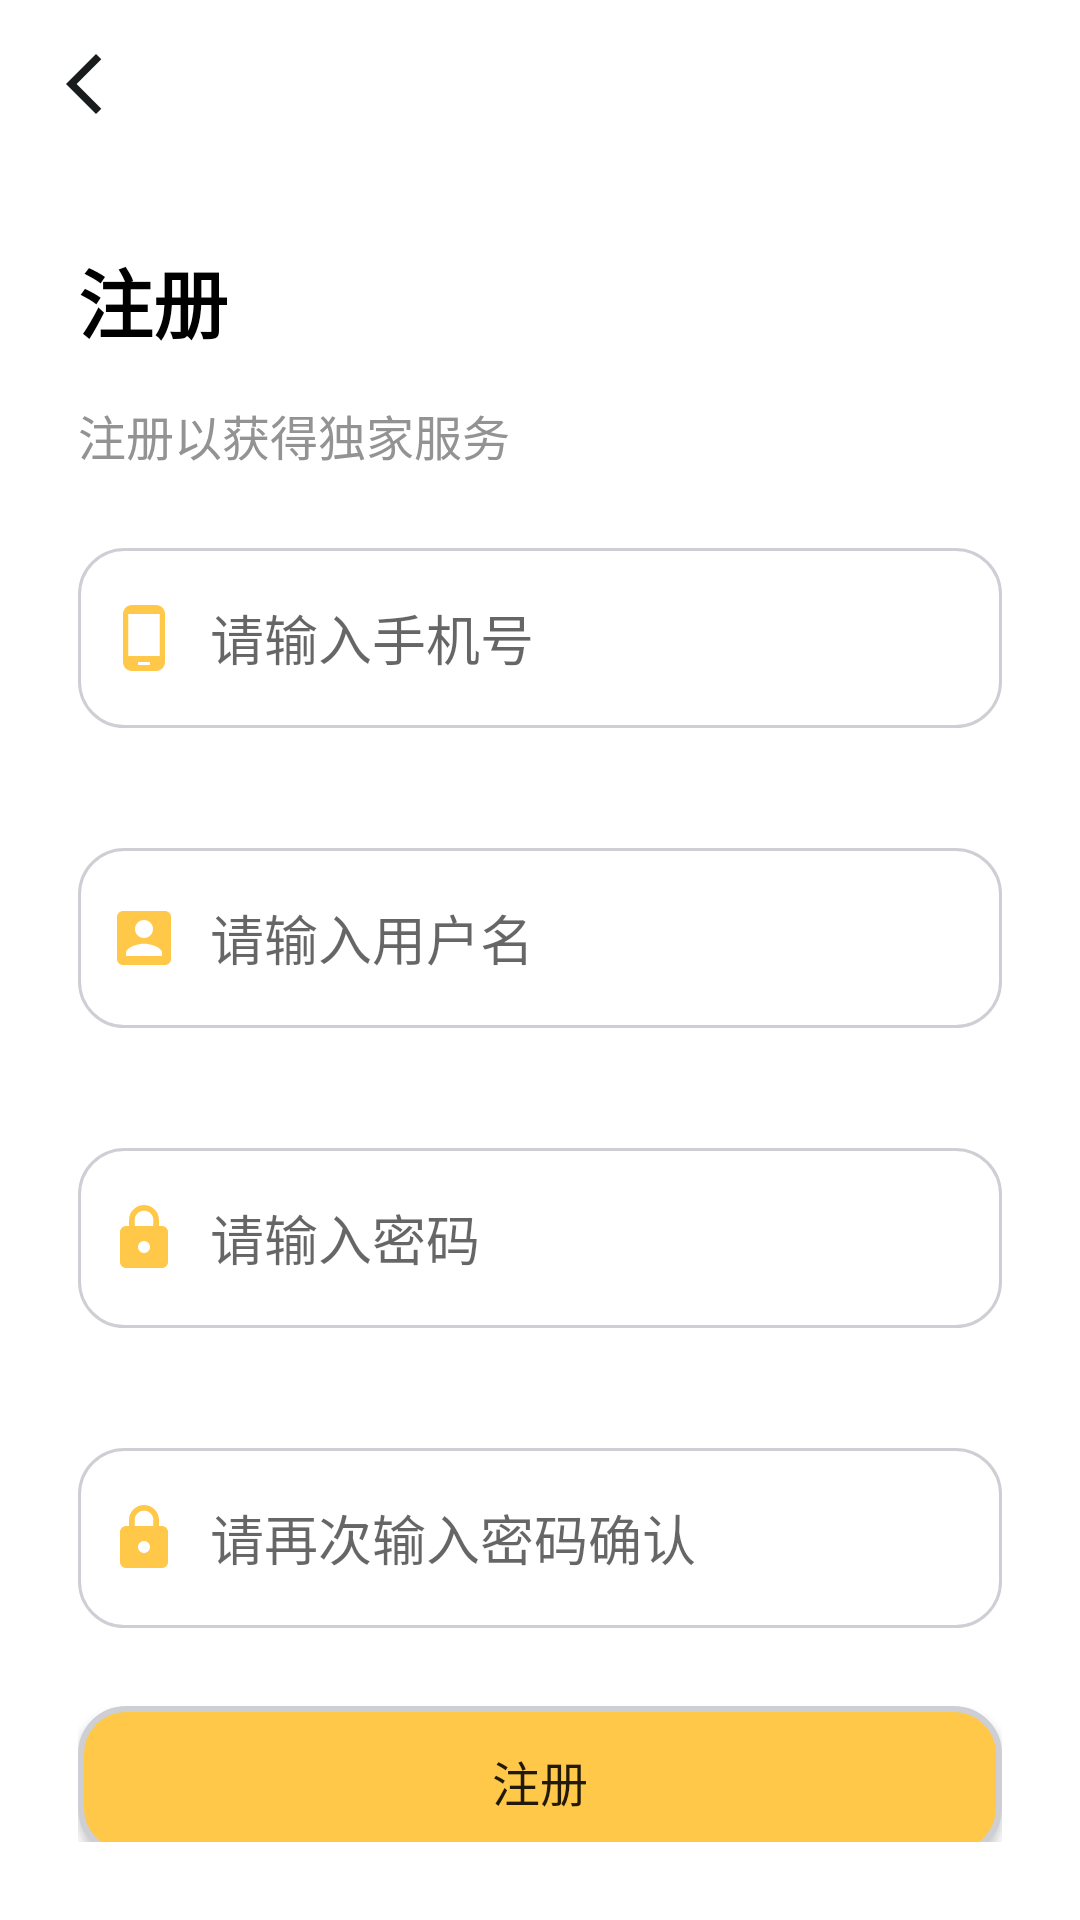

Named icons in this screenshot (1080×1920) and their centers, [x,y]:
account box: [144,938]
lock: [144,1236], [144,1536]
phone android: [144,638]
